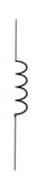inductor: (8, 51, 35, 123)
